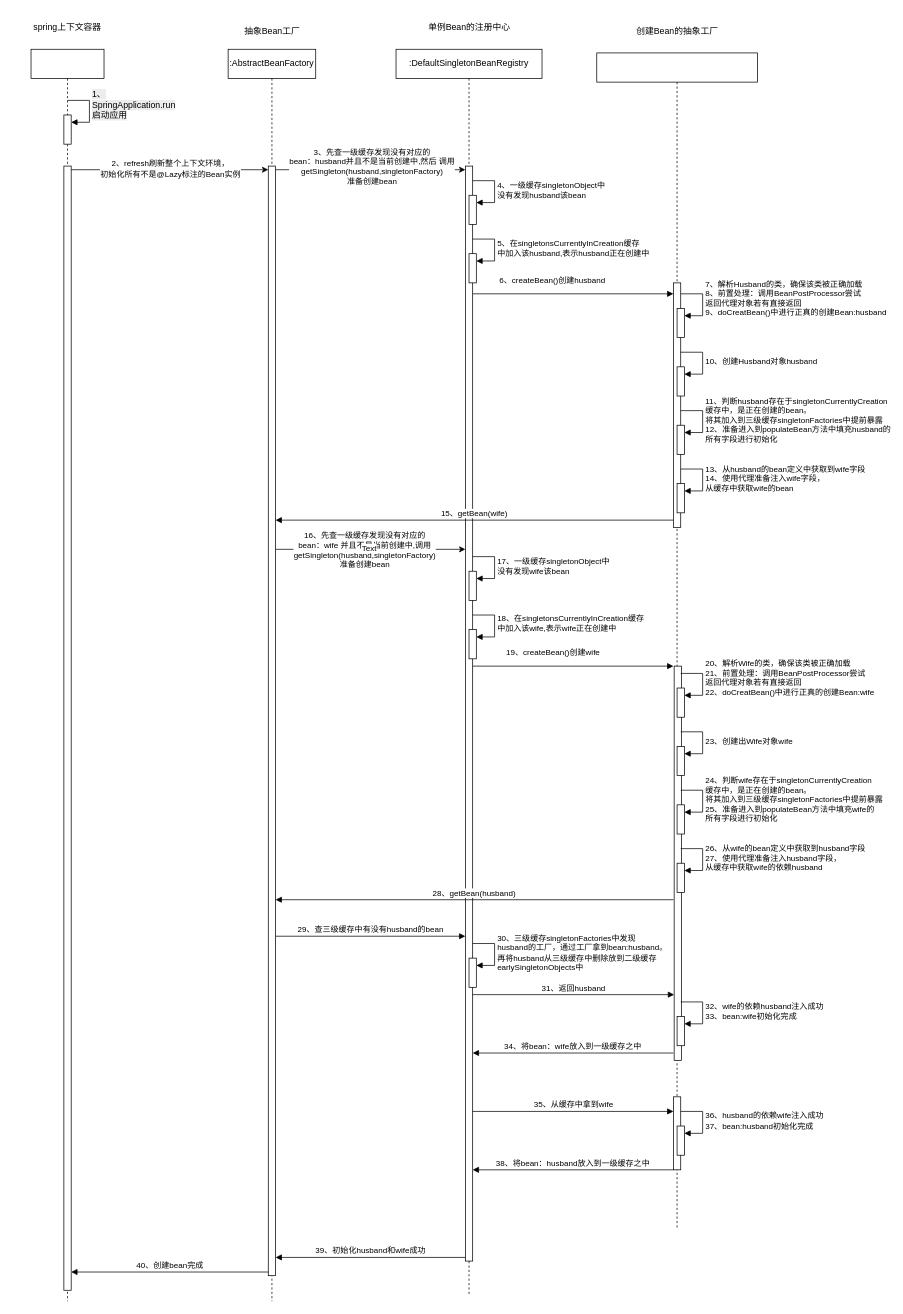
Image size: 903x1314. Some labels were removed from this diagram. Here are the shapes that lost their labels. From the top down, the box of each, then its label:
(596, 52, 757, 1228): :AbstractAutowireCapableBeanFactory
(30, 49, 104, 1301): :XXXAplication
